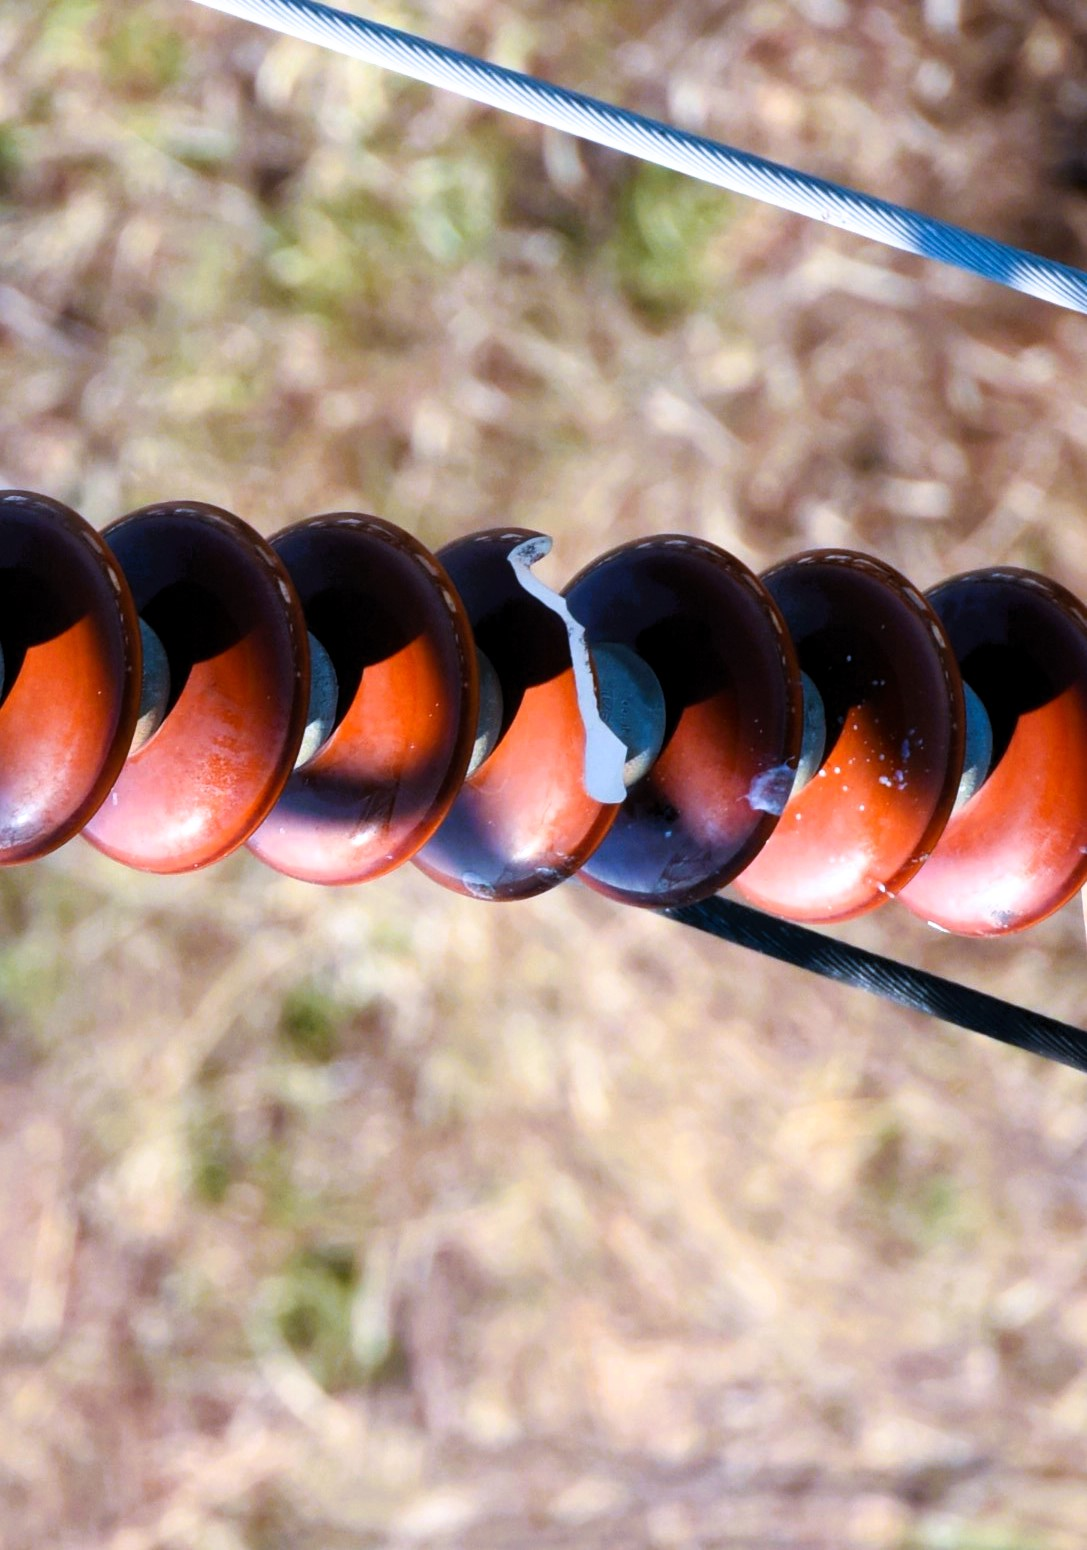insulator breakage: (391, 506, 635, 918)
